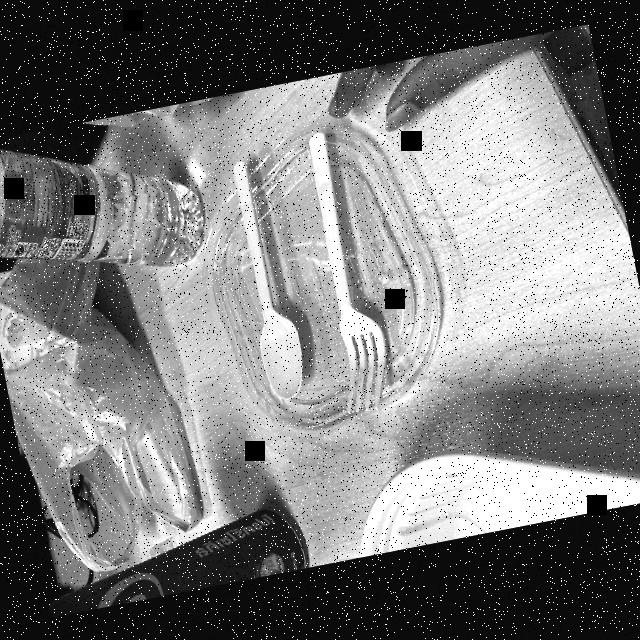plastic_spoon: (286, 116, 402, 423), (224, 148, 313, 404)
